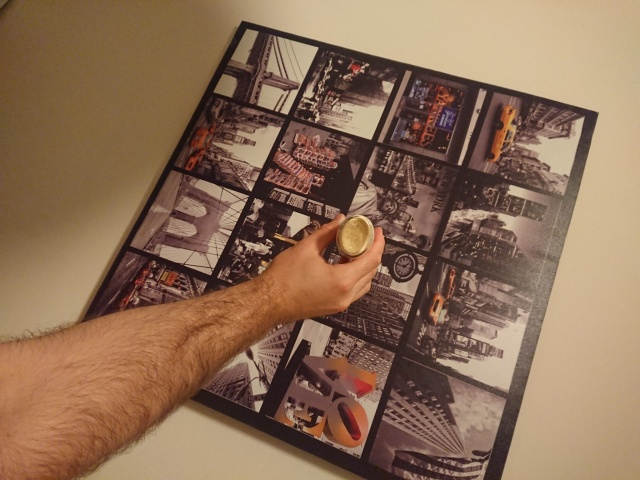Kotanyi Garlic Granules 70g: (334, 213, 376, 260)
